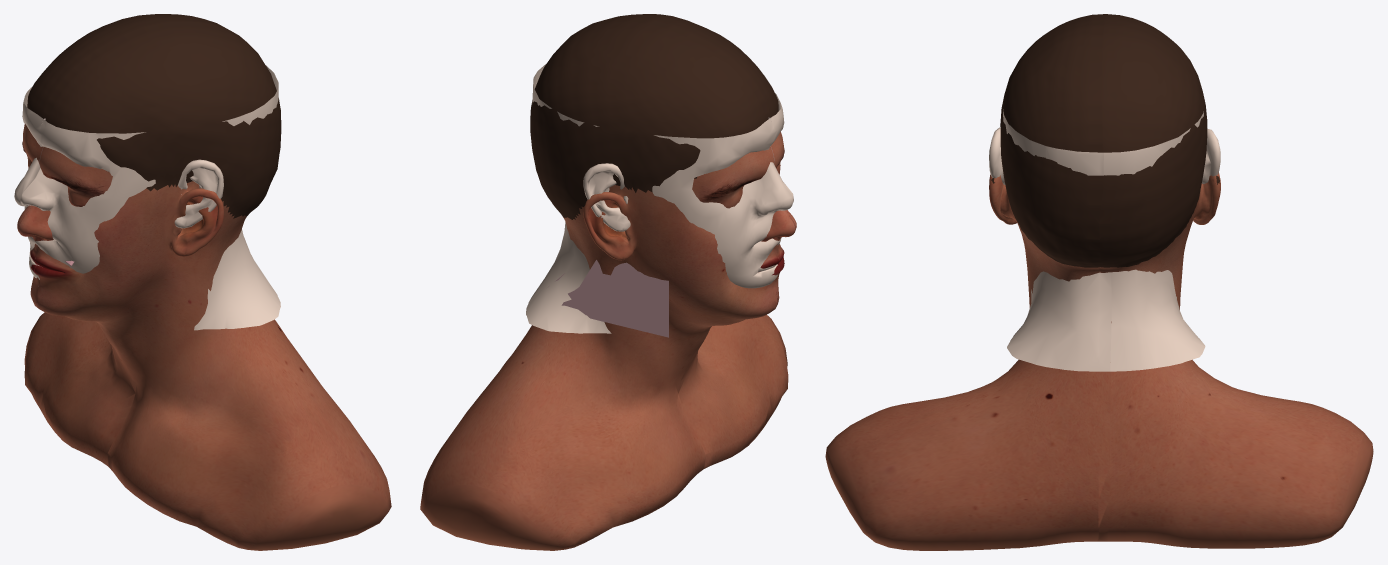
File: cara.glb
3 renders of one model, left to right at view 1: azimuth 30°, elevation 25°; view 2: azimuth 150°, elevation 25°; view 3: azimuth 270°, elevation 25°, orthographic. The views are drawn at different scales.
Visible parts, largest first — view 1: exterior_cercana, pelo_cercana, cabeza_cercana, exterior_lejana, pelo_lejana, cabeza_lejana; view 2: exterior_lejana, pelo_lejana, cabeza_lejana, exterior_cercana, pared_lejana_3, pelo_cercana; view 3: exterior_lejana, exterior_cercana, pelo_lejana, pelo_cercana, cabeza_lejana, cabeza_cercana.
Boxes of the visible parts, x1=… form: exterior_cercana: x1=19, y1=147, x2=391, y2=550; pelo_cercana: x1=45, y1=22, x2=281, y2=218; cabeza_cercana: x1=20, y1=65, x2=280, y2=330; exterior_lejana: x1=17, y1=124, x2=135, y2=466; pelo_lejana: x1=27, y1=14, x2=239, y2=118; cabeza_lejana: x1=14, y1=87, x2=43, y2=278; exterior_lejana: x1=420, y1=146, x2=795, y2=550; pelo_lejana: x1=530, y1=20, x2=768, y2=219; cabeza_lejana: x1=526, y1=64, x2=793, y2=333; exterior_cercana: x1=678, y1=132, x2=796, y2=468; pared_lejana_3: x1=561, y1=260, x2=668, y2=337; pelo_cercana: x1=576, y1=14, x2=778, y2=117; exterior_lejana: x1=1099, y1=172, x2=1373, y2=548; exterior_cercana: x1=825, y1=174, x2=1099, y2=550; pelo_lejana: x1=1099, y1=14, x2=1219, y2=267; pelo_cercana: x1=991, y1=14, x2=1099, y2=267; cabeza_lejana: x1=1099, y1=111, x2=1220, y2=371; cabeza_cercana: x1=989, y1=109, x2=1099, y2=371.
Size of the model in its own units: 11.14 by 17.33 by 18.39.
48 materials, 1 textured.
